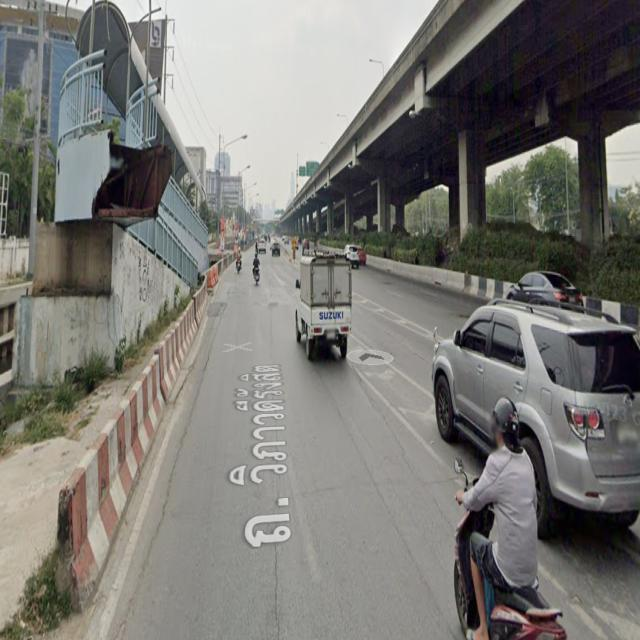fallen_object: (37, 363, 189, 564), (129, 275, 222, 389)
